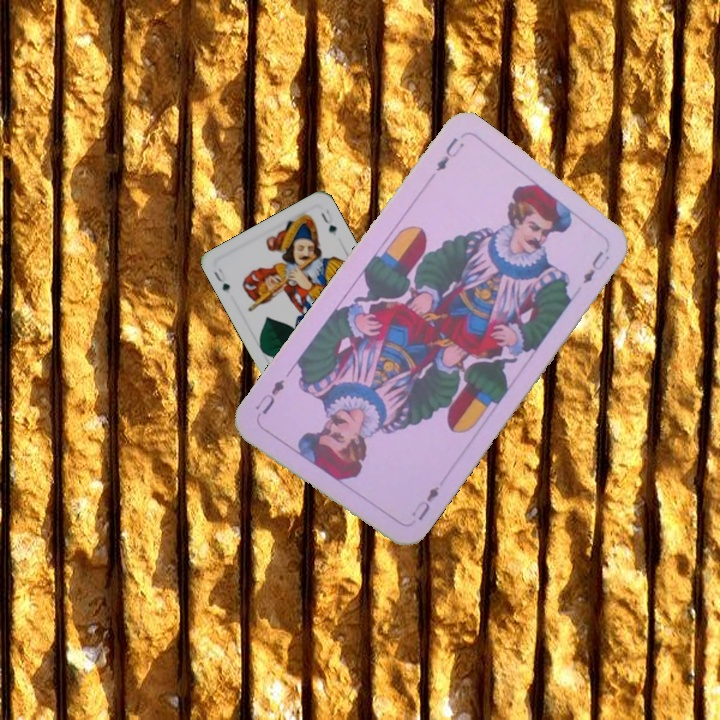EU: (431, 133, 467, 174), (407, 482, 442, 523)
GU: (210, 264, 233, 294)
